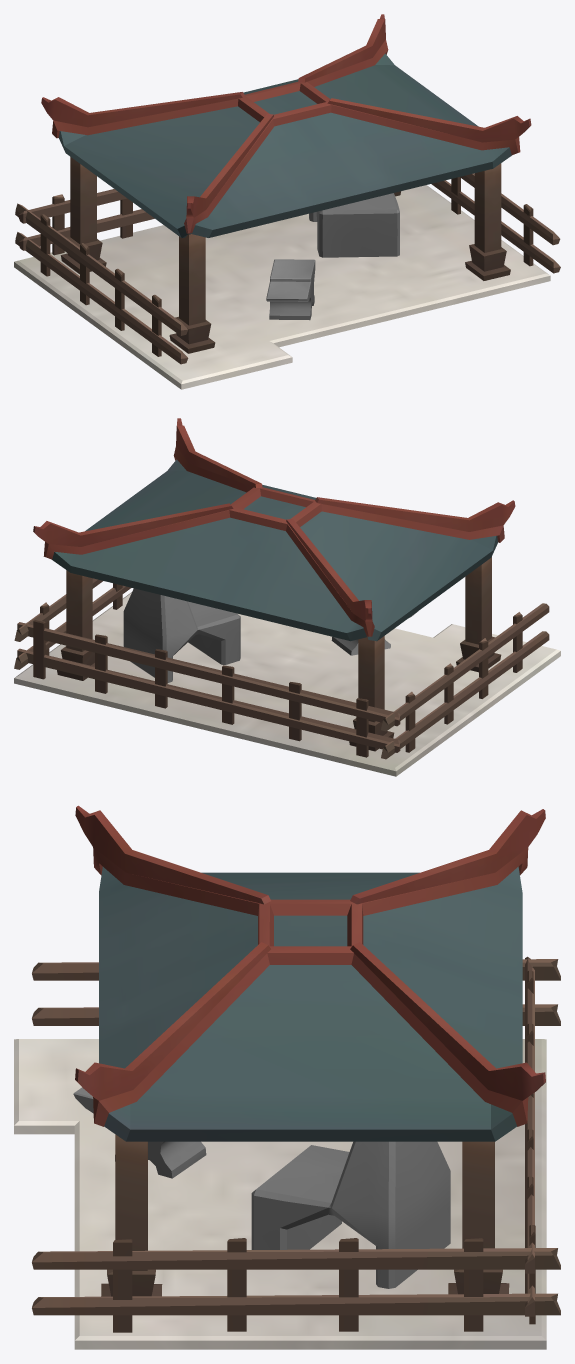
Rendered from blacksmith_1lvl.fbx.
The picture shows the model from 3 angles, top to bottom: view 1: azimuth 30°, elevation 25°; view 2: azimuth 150°, elevation 25°; view 3: azimuth 270°, elevation 25°; orthographic projection. The views are drawn at different scales.
Parts seen in each view (by area): view 1: blacksmith_1lvl; view 2: blacksmith_1lvl; view 3: blacksmith_1lvl.
Boxes of the visible parts, x1=… form: blacksmith_1lvl: x1=14, y1=14, x2=560, y2=389; blacksmith_1lvl: x1=14, y1=418, x2=560, y2=776; blacksmith_1lvl: x1=14, y1=805, x2=560, y2=1349.
Bounding box in the file's own units: 6.01 × 2.61 × 4.6.
